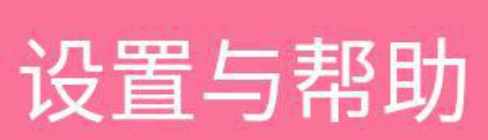TextView: (1, 1, 487, 139)
